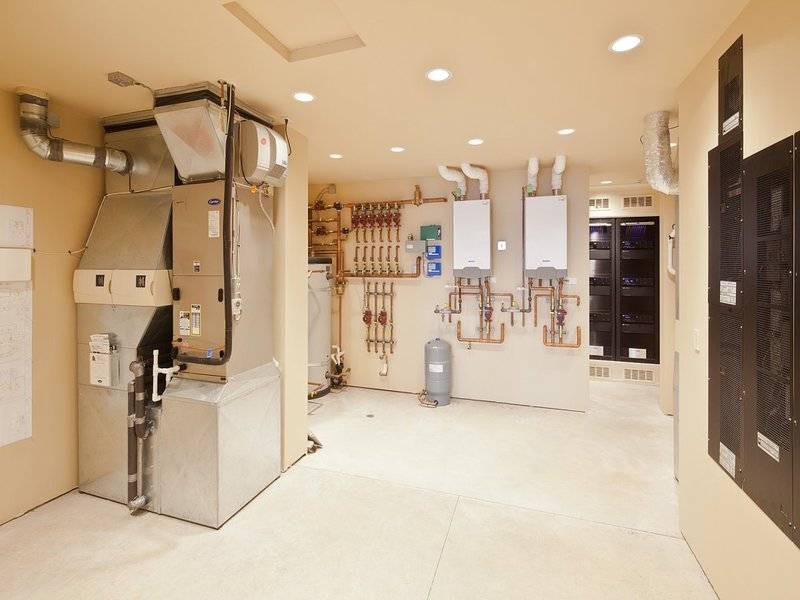valve: (555, 324, 565, 343), (389, 317, 395, 327)
